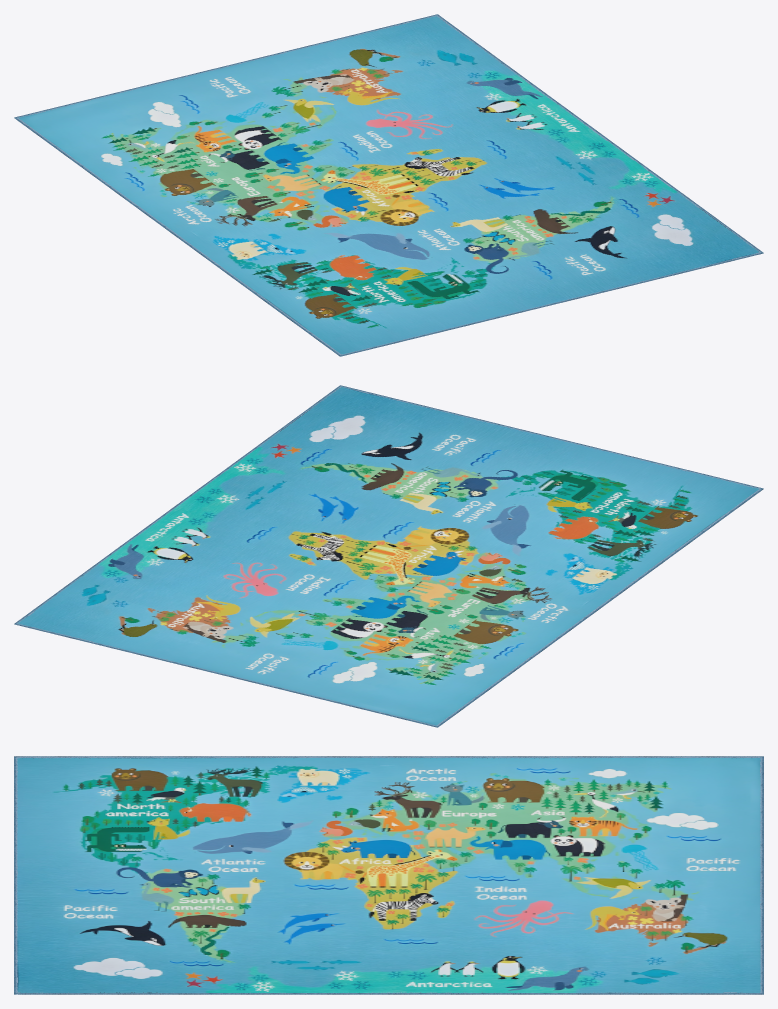
Rendered from carpet_Chenille_120x160.glb.
3 views of the same model, one above another, from view 1: azimuth 30°, elevation 25°; view 2: azimuth 150°, elevation 25°; view 3: azimuth 270°, elevation 25° (orthographic). The views are drawn at different scales.
Parts seen in each view (by area): view 1: carpet_Chenille_120x160 (1); view 2: carpet_Chenille_120x160 (1); view 3: carpet_Chenille_120x160 (1).
Boxes of the visible parts, x1,y1,x2,y2 form: carpet_Chenille_120x160 (1): (14,14,763,356); carpet_Chenille_120x160 (1): (14,385,763,727); carpet_Chenille_120x160 (1): (14,756,763,994).
Size of the model in its own units: 1.2 by 0.00101 by 1.6.
Materials: 2 (2 with a texture image).
